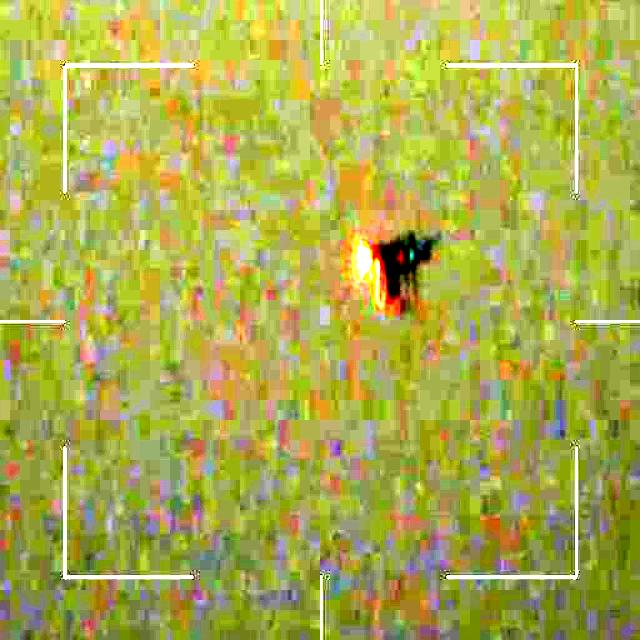bird: (344, 222, 435, 320)
